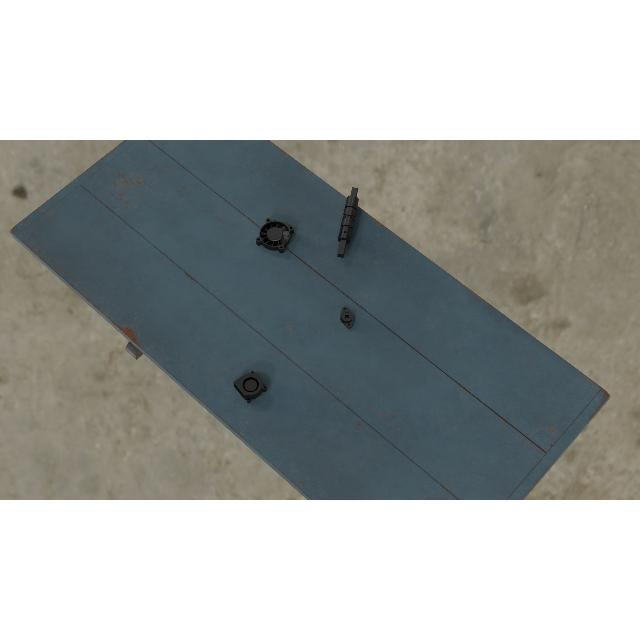Pieza1: (335, 184, 361, 260)
Pieza2: (338, 304, 357, 330)
Pieza3: (234, 368, 268, 404)
Pieza4: (255, 218, 295, 255)
